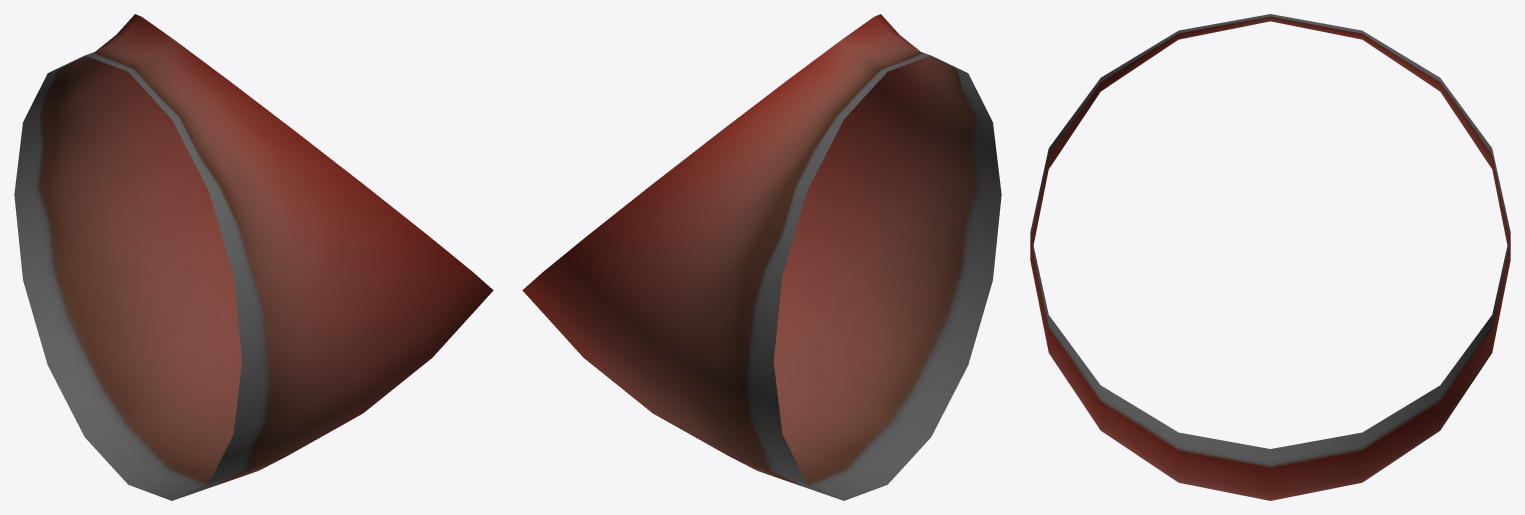
Rendered from pipe01_crn_8a.fbx.
The picture shows the model from 3 angles, left to right: view 1: azimuth 30°, elevation 25°; view 2: azimuth 150°, elevation 25°; view 3: azimuth 270°, elevation 25°; orthographic projection. The views are drawn at different scales.
Parts seen in each view (by area): view 1: pipe01_crn_8a; view 2: pipe01_crn_8a; view 3: pipe01_crn_8a.
Part boxes in pixels (x1,y1,x2,y2): pipe01_crn_8a: [14, 14, 493, 500]; pipe01_crn_8a: [522, 14, 1001, 500]; pipe01_crn_8a: [1030, 14, 1510, 500].
Size of the model in its own units: 9.9 by 12.59 by 12.
